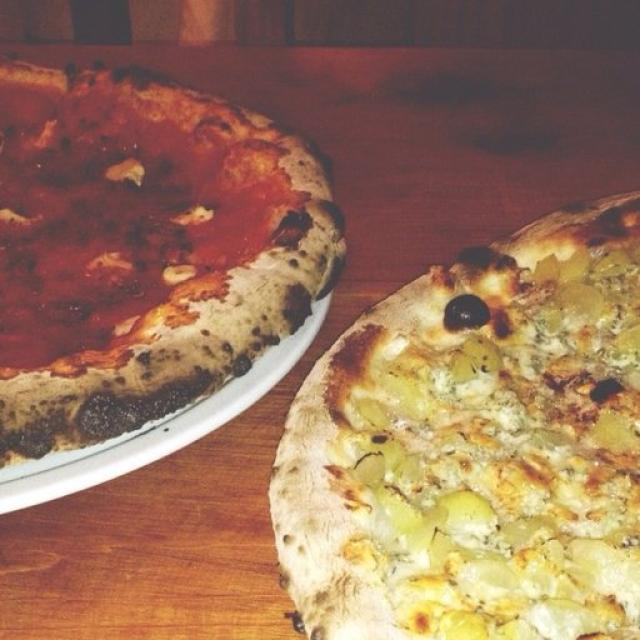Olives: (452, 294, 487, 326)
Pizza: (266, 195, 640, 640), (0, 61, 350, 465)
